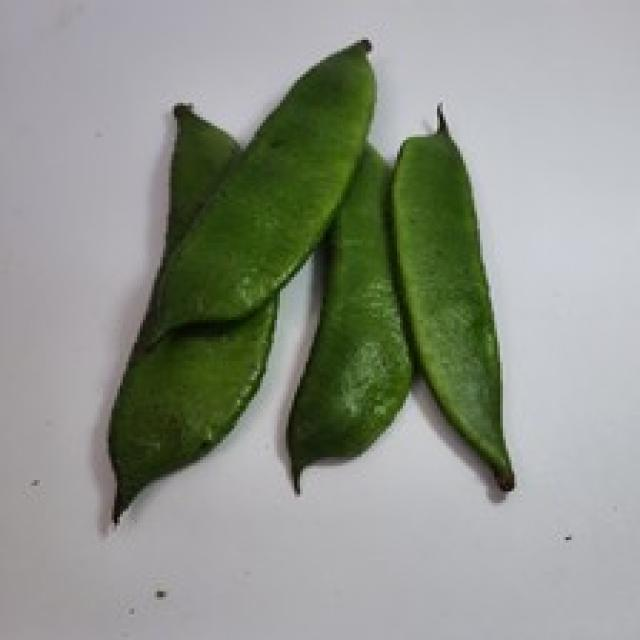Bean: (132, 34, 377, 357), (389, 100, 514, 491), (283, 137, 414, 494), (106, 288, 277, 523)
